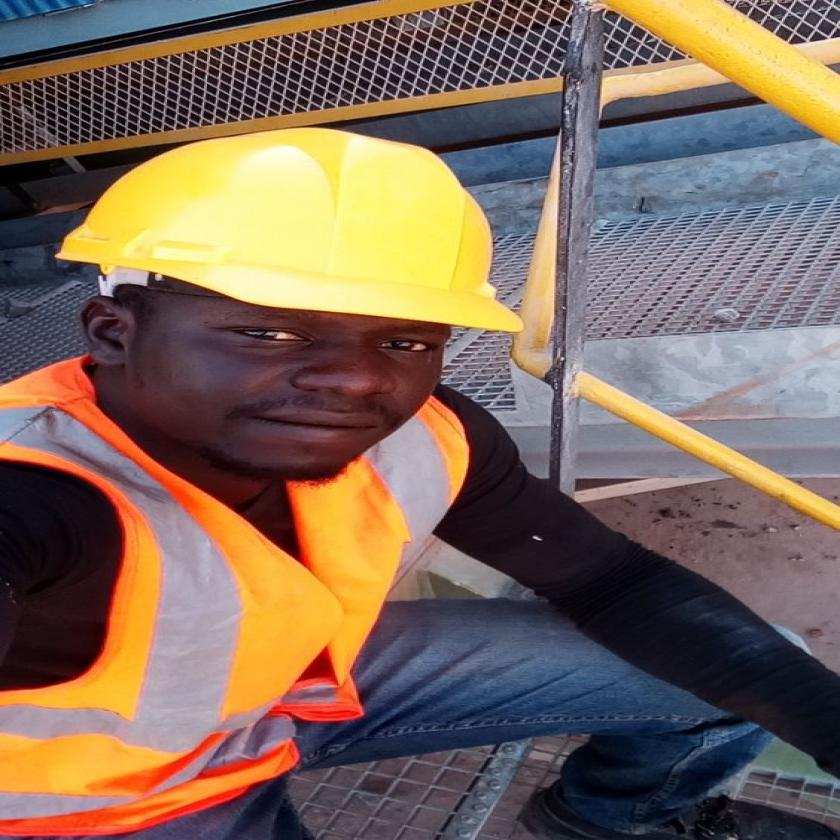Con_casco: (45, 126, 532, 481)
